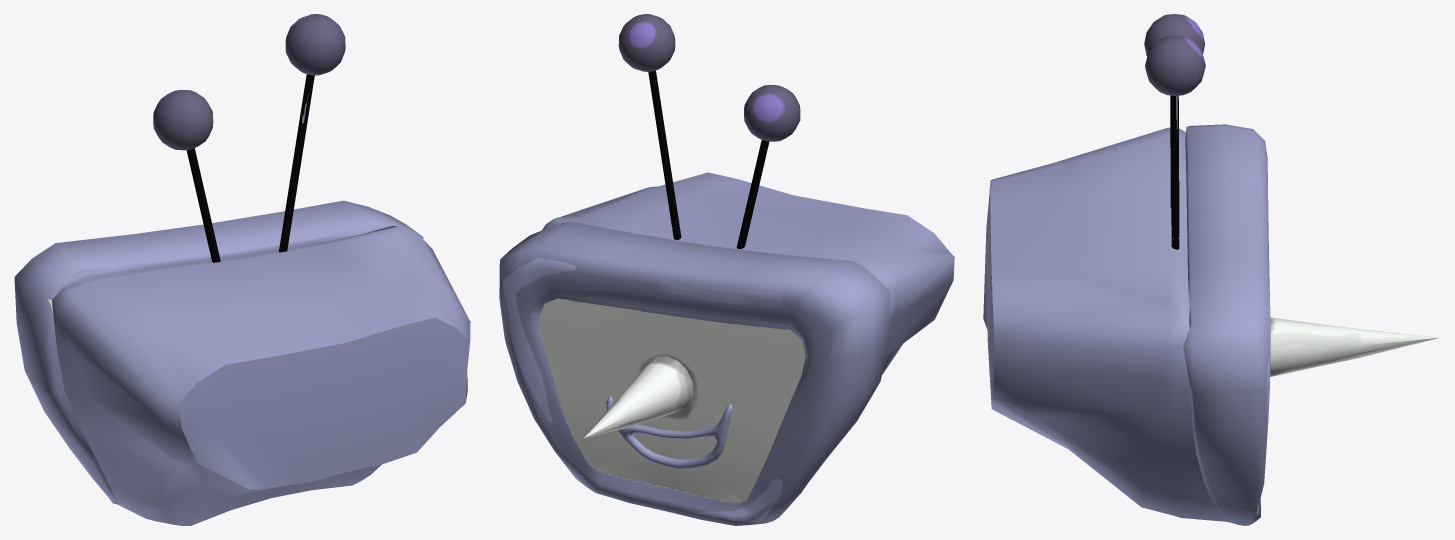
Rendered from tenna.glb.
The picture shows the model from 3 angles, left to right: view 1: azimuth 30°, elevation 25°; view 2: azimuth 150°, elevation 25°; view 3: azimuth 270°, elevation 25°; orthographic projection. The views are drawn at different scales.
Parts seen in each view (by area): view 1: Tenna; view 2: Tenna; view 3: Tenna.
Part boxes in pixels (x1=…): Tenna: x1=14, y1=14, x2=470, y2=525; Tenna: x1=499, y1=14, x2=954, y2=525; Tenna: x1=983, y1=14, x2=1439, y2=525.
Bounding box in the file's own units: 4.57 × 5.47 × 4.75.
Materials: 1 (1 with a texture image).
